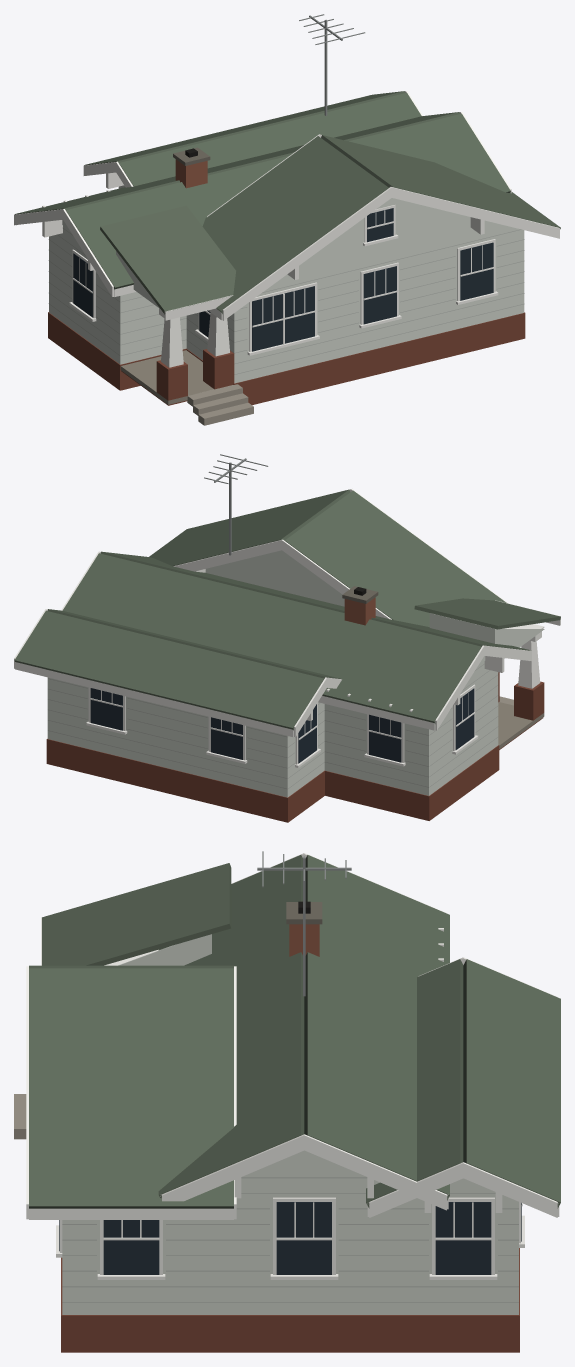
File: frame-bungalow-0001.glb
3 views of the same model, one above another, from view 1: azimuth 30°, elevation 25°; view 2: azimuth 150°, elevation 25°; view 3: azimuth 270°, elevation 25° (orthographic). The views are drawn at different scales.
Parts seen in each view (by area): view 1: kit-frame-bungalow-0001; view 2: kit-frame-bungalow-0001; view 3: kit-frame-bungalow-0001.
Part boxes in pixels (box(x1,y1,x2,y2)): kit-frame-bungalow-0001: box(14, 14, 560, 425); kit-frame-bungalow-0001: box(14, 454, 560, 822); kit-frame-bungalow-0001: box(14, 851, 560, 1352).
Bounding box in the file's own units: 12.17 × 8.23 × 9.87.
